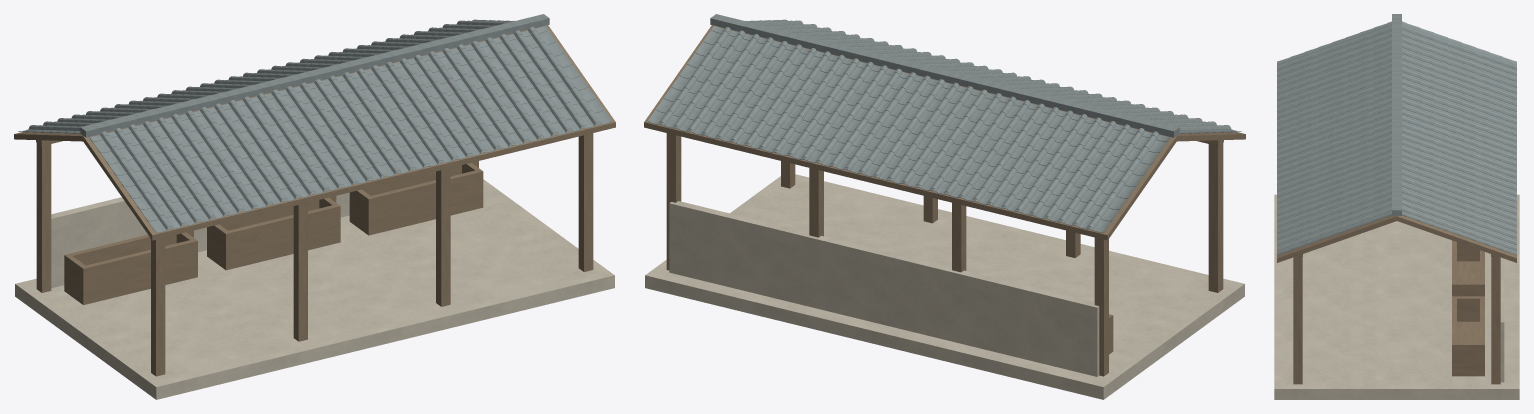
The picture shows the model from 3 angles, left to right: view 1: azimuth 30°, elevation 25°; view 2: azimuth 150°, elevation 25°; view 3: azimuth 270°, elevation 25°; orthographic projection. The views are drawn at different scales.
Visible parts, largest first — view 1: A_shelter_tile_shells, A_earth_platform, A_hollow_trough_0, A_shelter_ridge_cap_C, A_hollow_trough_2, A_hollow_trough_1, A_shelter_roof_board, A_rear_wall, A_post_0_1.9400000000000002, A_post_3_-1.9400000000000002, A_post_0_-1.9400000000000002, A_post_2_-1.9400000000000002 (+2 smaller); view 2: A_shelter_tile_shells, A_earth_platform, A_rear_wall, A_shelter_ridge_cap_C, A_shelter_roof_board.001, A_post_0_-1.9400000000000002, A_post_0_1.9400000000000002, A_post_3_1.9400000000000002, A_post_2_1.9400000000000002, A_post_1_1.9400000000000002, A_shelter_roof_board; view 3: A_shelter_tile_shells, A_earth_platform, A_hollow_trough_2, A_shelter_ridge_cap_C, A_hollow_trough_1, A_post_3_-1.9400000000000002, A_post_3_1.9400000000000002, A_shelter_roof_board, A_shelter_roof_board.001, A_rear_wall.
Boxes of the visible parts, x1,y1,x2,y2 form: A_shelter_tile_shells: (18,19,611,232); A_earth_platform: (15,179,614,399); A_hollow_trough_0: (64,232,197,304); A_shelter_ridge_cap_C: (80,14,549,137); A_hollow_trough_2: (349,163,483,235); A_hollow_trough_1: (207,197,340,270); A_shelter_roof_board: (83,25,615,240); A_rear_wall: (51,192,349,287); A_post_0_1.9400000000000002: (36,143,51,292); A_post_3_-1.9400000000000002: (578,133,593,271); A_post_0_-1.9400000000000002: (151,237,165,376); A_post_2_-1.9400000000000002: (436,168,450,306); A_shelter_tile_shells: (648,19,1241,232); A_earth_platform: (645,174,1244,399); A_rear_wall: (669,201,1099,376); A_shelter_ridge_cap_C: (710,14,1179,137); A_shelter_roof_board.001: (644,25,1176,240); A_post_0_-1.9400000000000002: (1208,143,1223,292); A_post_0_1.9400000000000002: (1094,237,1108,376); A_post_3_1.9400000000000002: (666,133,681,270); A_post_2_1.9400000000000002: (809,168,823,237); A_post_1_1.9400000000000002: (952,202,966,272); A_shelter_roof_board: (1176,132,1245,141); A_shelter_tile_shells: (1277,21,1516,255); A_earth_platform: (1274,194,1519,399); A_hollow_trough_2: (1452,296,1484,376); A_shelter_ridge_cap_C: (1392,14,1401,215); A_hollow_trough_1: (1452,240,1484,296); A_post_3_-1.9400000000000002: (1293,257,1302,384); A_post_3_1.9400000000000002: (1491,257,1500,384); A_shelter_roof_board: (1277,215,1396,262); A_shelter_roof_board.001: (1397,215,1516,262); A_rear_wall: (1500,257,1504,382).
Size of the model in its own units: 9.1 by 4.12 by 4.8.
Materials: 3 (3 with a texture image).
